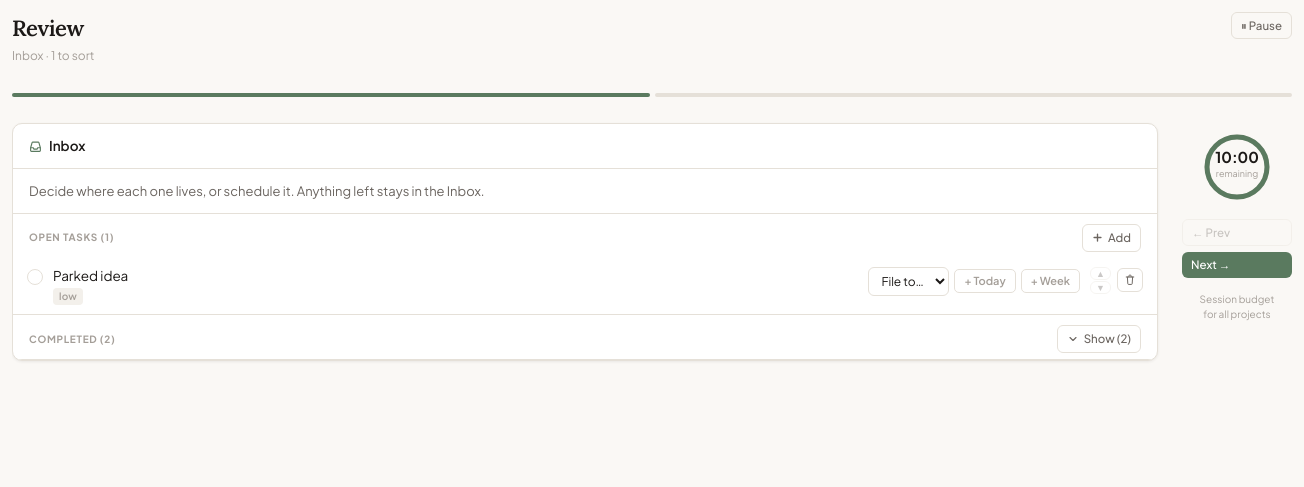
Test: ReviewView completed tasks › starts every phase folded, whatever the last one was left as
The image size is (1304, 487).
Click the button "Show (2)".
click(1099, 339)  # box [1057,326,1141,353]
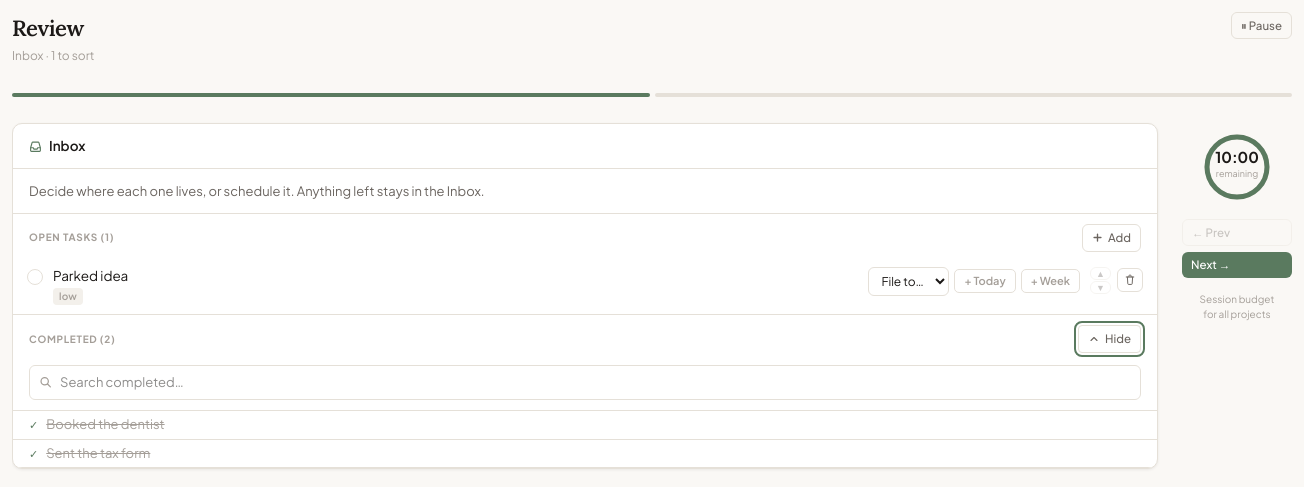
Expected: the text "Booked the dentist" is shown, [46,415,165,435]
Press Arrowright
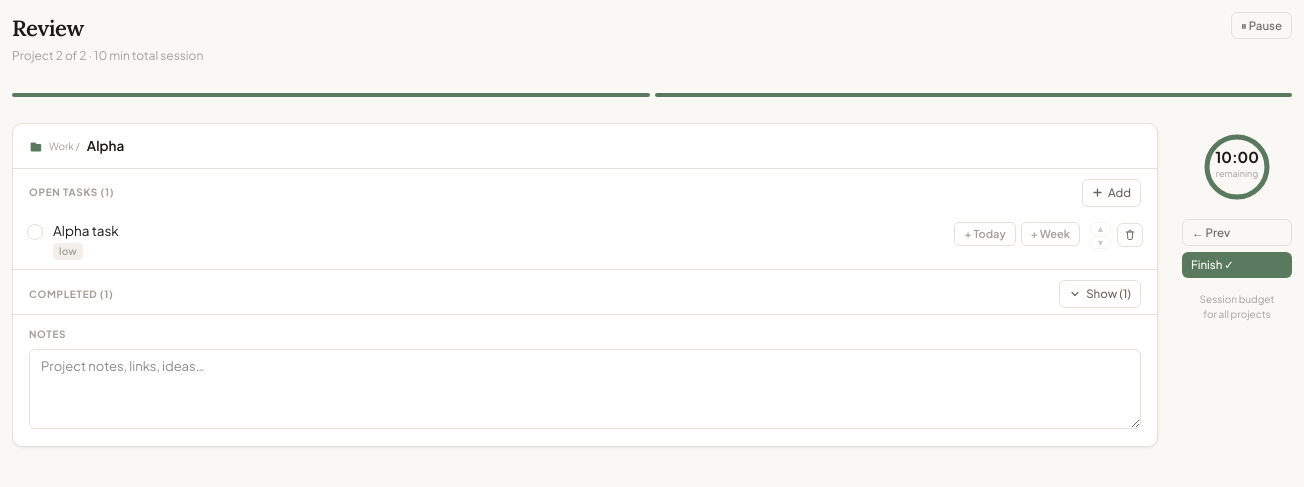
Expected: the heading shows "Alpha", [87,137,124,154]
Expected: the text "Completed (1)" is shown, [29,286,114,302]
Note: And back again: the Inbox does not remember it was open.
Click the button "← Prev".
click(1237, 233)  # box [1182,219,1292,246]
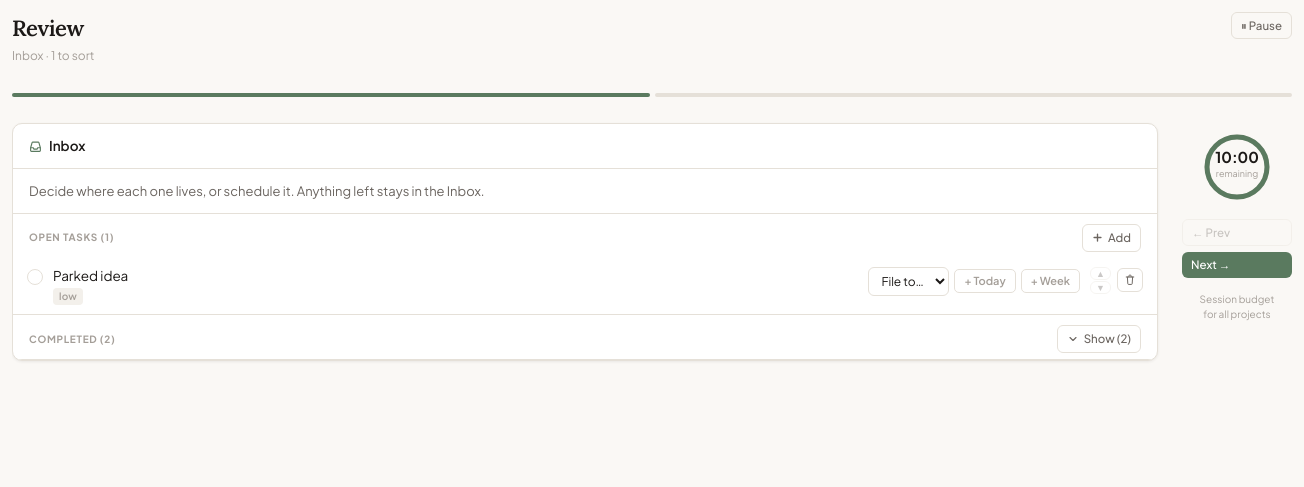
Expected: the text "Booked the dentist" is not shown
Expected: the heading reads "Inbox", [49,137,85,154]
